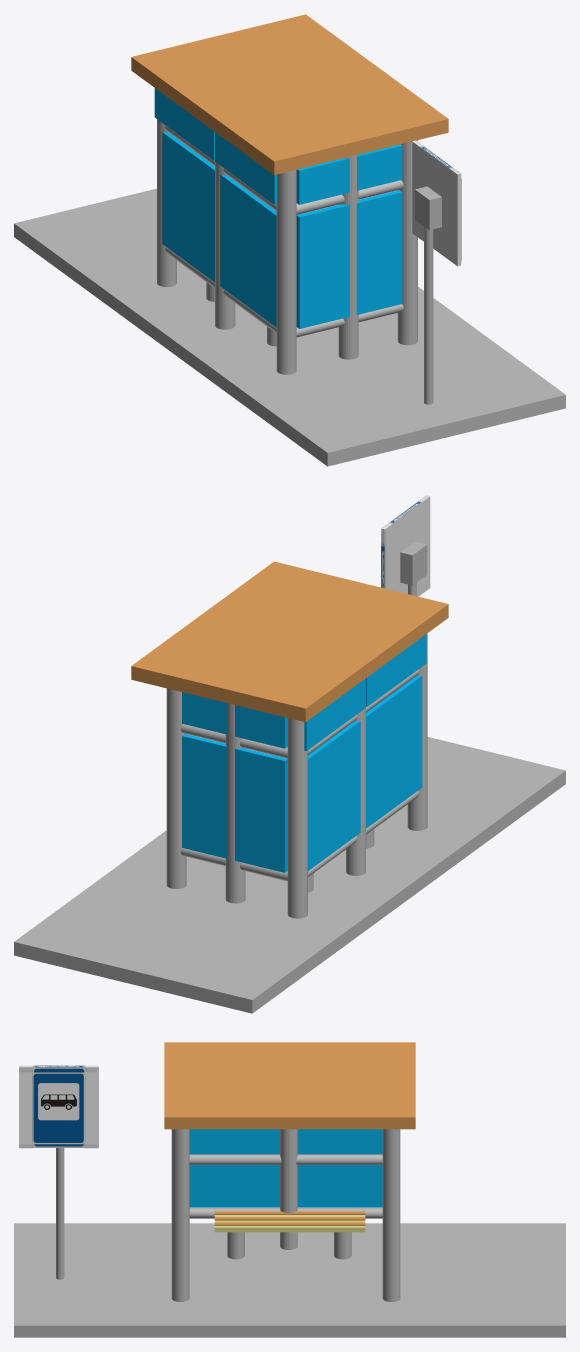
File: low_poly_bus_stop.glb
3 views of the same model, one above another, from view 1: azimuth 30°, elevation 25°; view 2: azimuth 150°, elevation 25°; view 3: azimuth 270°, elevation 25° (orthographic). The views are drawn at different scales.
Visible parts, largest first — view 1: Material_003-material (×12), Material_004-material (×6), Material_001-material, Material_011-material; view 2: Material_003-material (×10), Material_004-material (×6), Material_001-material, Material_011-material; view 3: Material_003-material (×9), Material_001-material (×4), Material_004-material (×2), bus-material, Material_002-material, Material_009-material.
Boxes of the visible parts, box(x1,y1,x2,y2) form: Material_003-material (×12): box(14, 119, 565, 466); Material_004-material (×6): box(154, 88, 402, 328); Material_001-material: box(131, 14, 448, 174); Material_011-material: box(412, 140, 460, 266); Material_003-material (×10): box(14, 542, 565, 1013); Material_004-material (×6): box(182, 634, 426, 872); Material_001-material: box(131, 561, 448, 722); Material_011-material: box(382, 495, 430, 596); Material_003-material (×9): box(14, 1129, 565, 1337); Material_001-material (×4): box(164, 1042, 415, 1225); Material_004-material (×2): box(189, 1129, 382, 1207); bus-material: box(19, 1072, 98, 1144); Material_002-material: box(214, 1215, 365, 1232); Material_009-material: box(19, 1065, 98, 1147).
Bounding box in the file's own units: 3.66 × 3.78 × 8.34.
9 materials, 2 textured.
